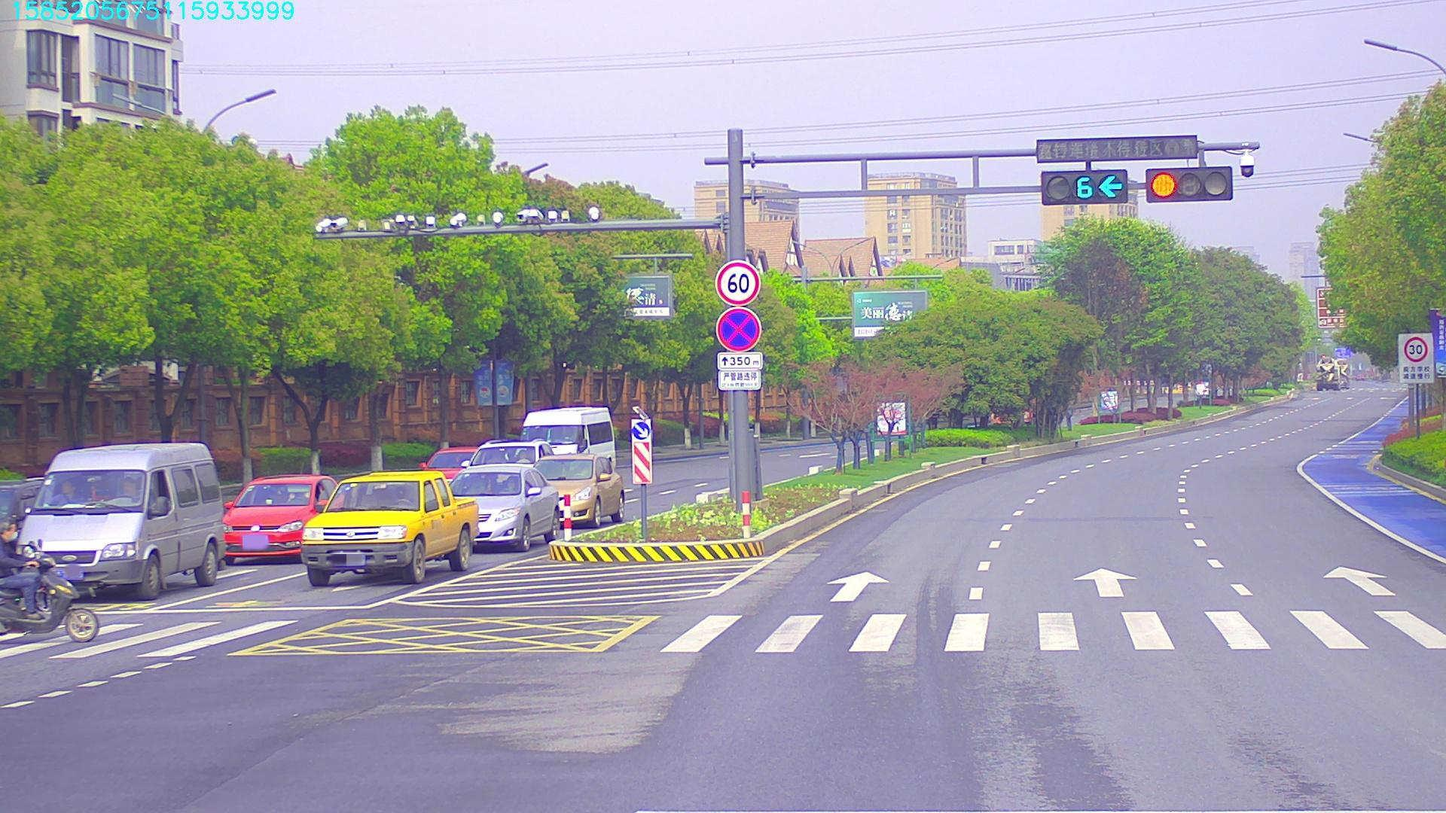green: (1039, 172, 1123, 196)
red: (1154, 165, 1231, 197)
